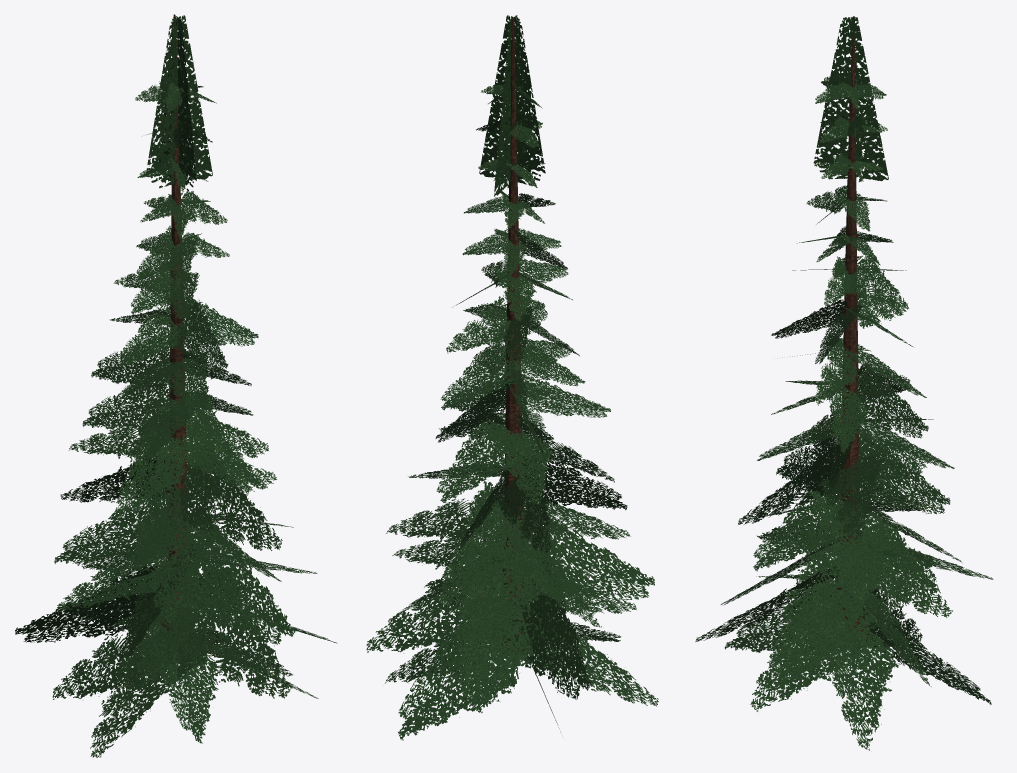
File: SM_spruce_young.fbx
3 renders of one model, left to right at view 1: azimuth 30°, elevation 25°; view 2: azimuth 150°, elevation 25°; view 3: azimuth 270°, elevation 25°, orthographic. The views are drawn at different scales.
Parts seen in each view (by area): view 1: SM_spruce_young; view 2: SM_spruce_young; view 3: SM_spruce_young.
Boxes of the visible parts, left/top/right/bottom form: SM_spruce_young: left=15, top=14, right=337, bottom=757; SM_spruce_young: left=366, top=15, right=658, bottom=740; SM_spruce_young: left=695, top=16, right=993, bottom=750.
Bounding box in the file's own units: 2.57 × 6.62 × 2.74.
